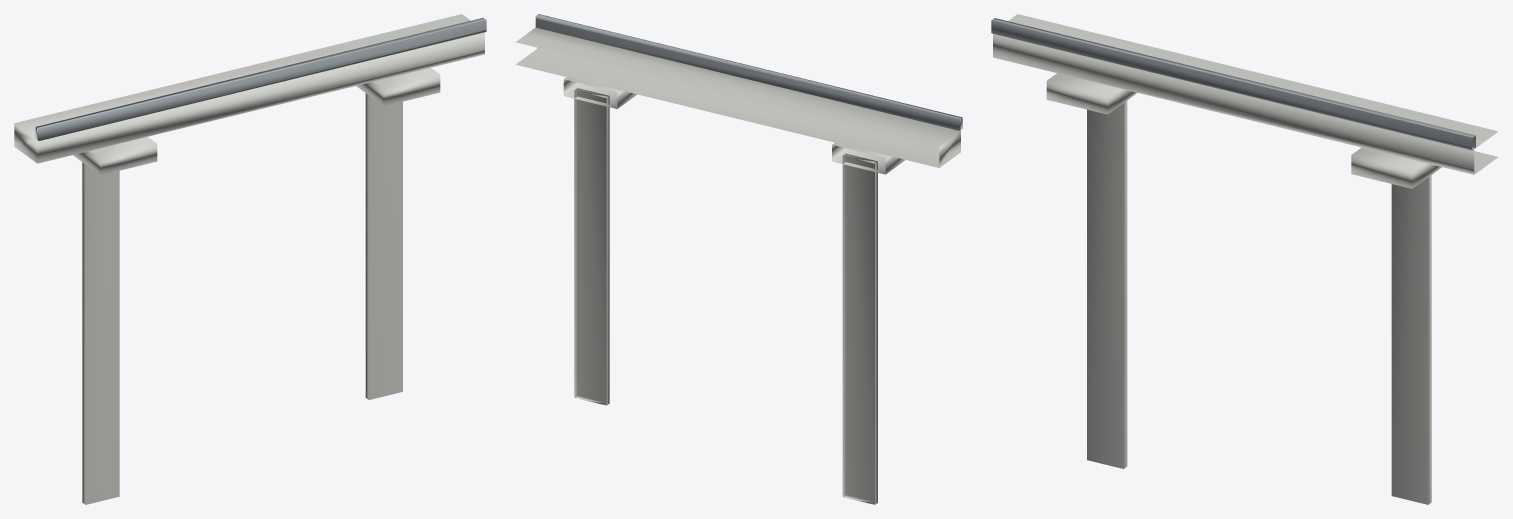
File: alpine-8-12.glb
3 views of the same model, side by side, from view 1: azimuth 30°, elevation 25°; view 2: azimuth 150°, elevation 25°; view 3: azimuth 330°, elevation 25° (orthographic). The views are drawn at different scales.
Visible parts, largest first — view 1: alpine-8-12; view 2: alpine-8-12; view 3: alpine-8-12.
Part boxes in pixels (x1,y1,x2,y2): alpine-8-12: [14, 14, 486, 504]; alpine-8-12: [516, 14, 962, 504]; alpine-8-12: [991, 14, 1498, 504].
Size of the model in its own units: 79 by 68.79 by 9.
Materials: 2 (2 with a texture image).
